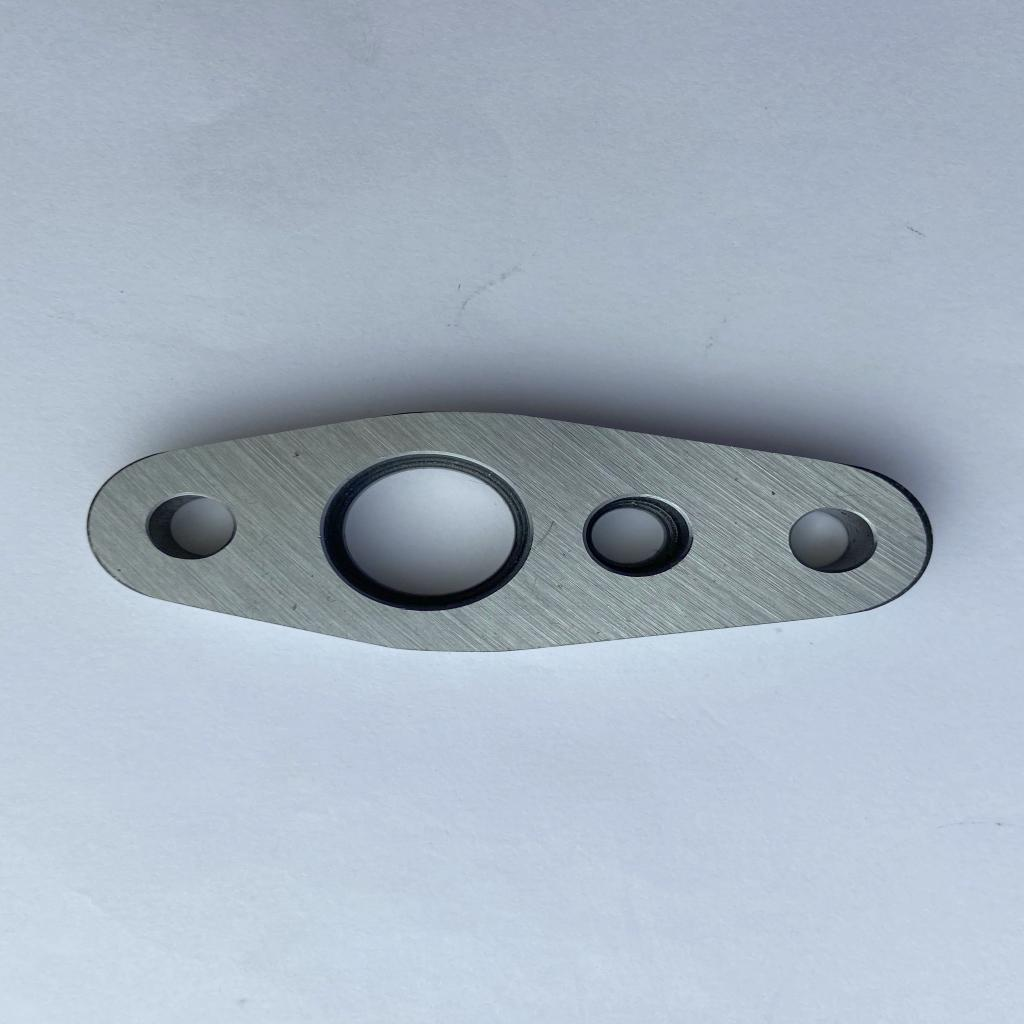chap: (288, 601, 302, 612), (289, 450, 302, 460), (768, 488, 779, 496)
lines: (534, 519, 558, 552)
